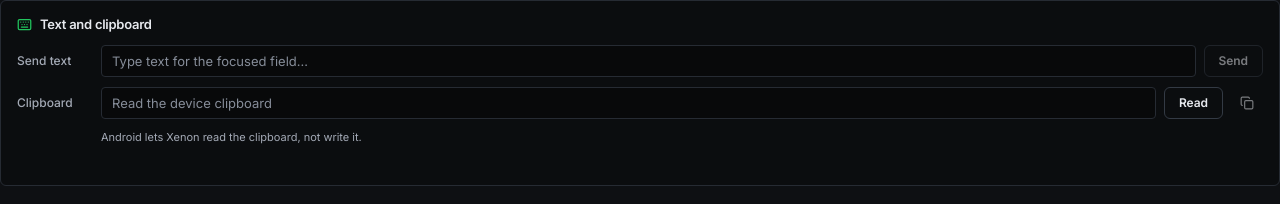
Scenario: Clipboard › says when the device clipboard is empty
Click the button "Read": (1194, 102) [1164,86,1223,118]
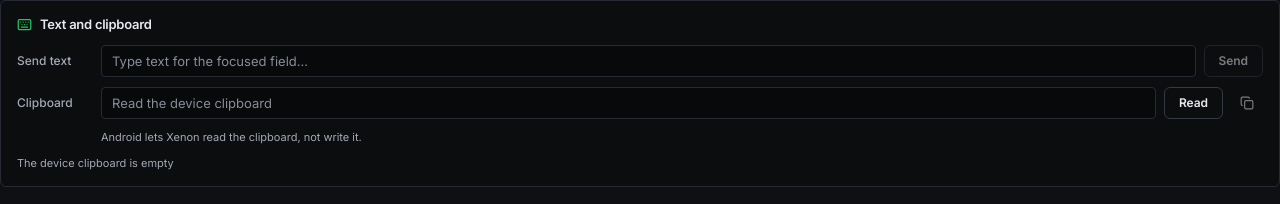
Expected: the message reads "The device clipboard is empty", [17,156,174,170]
